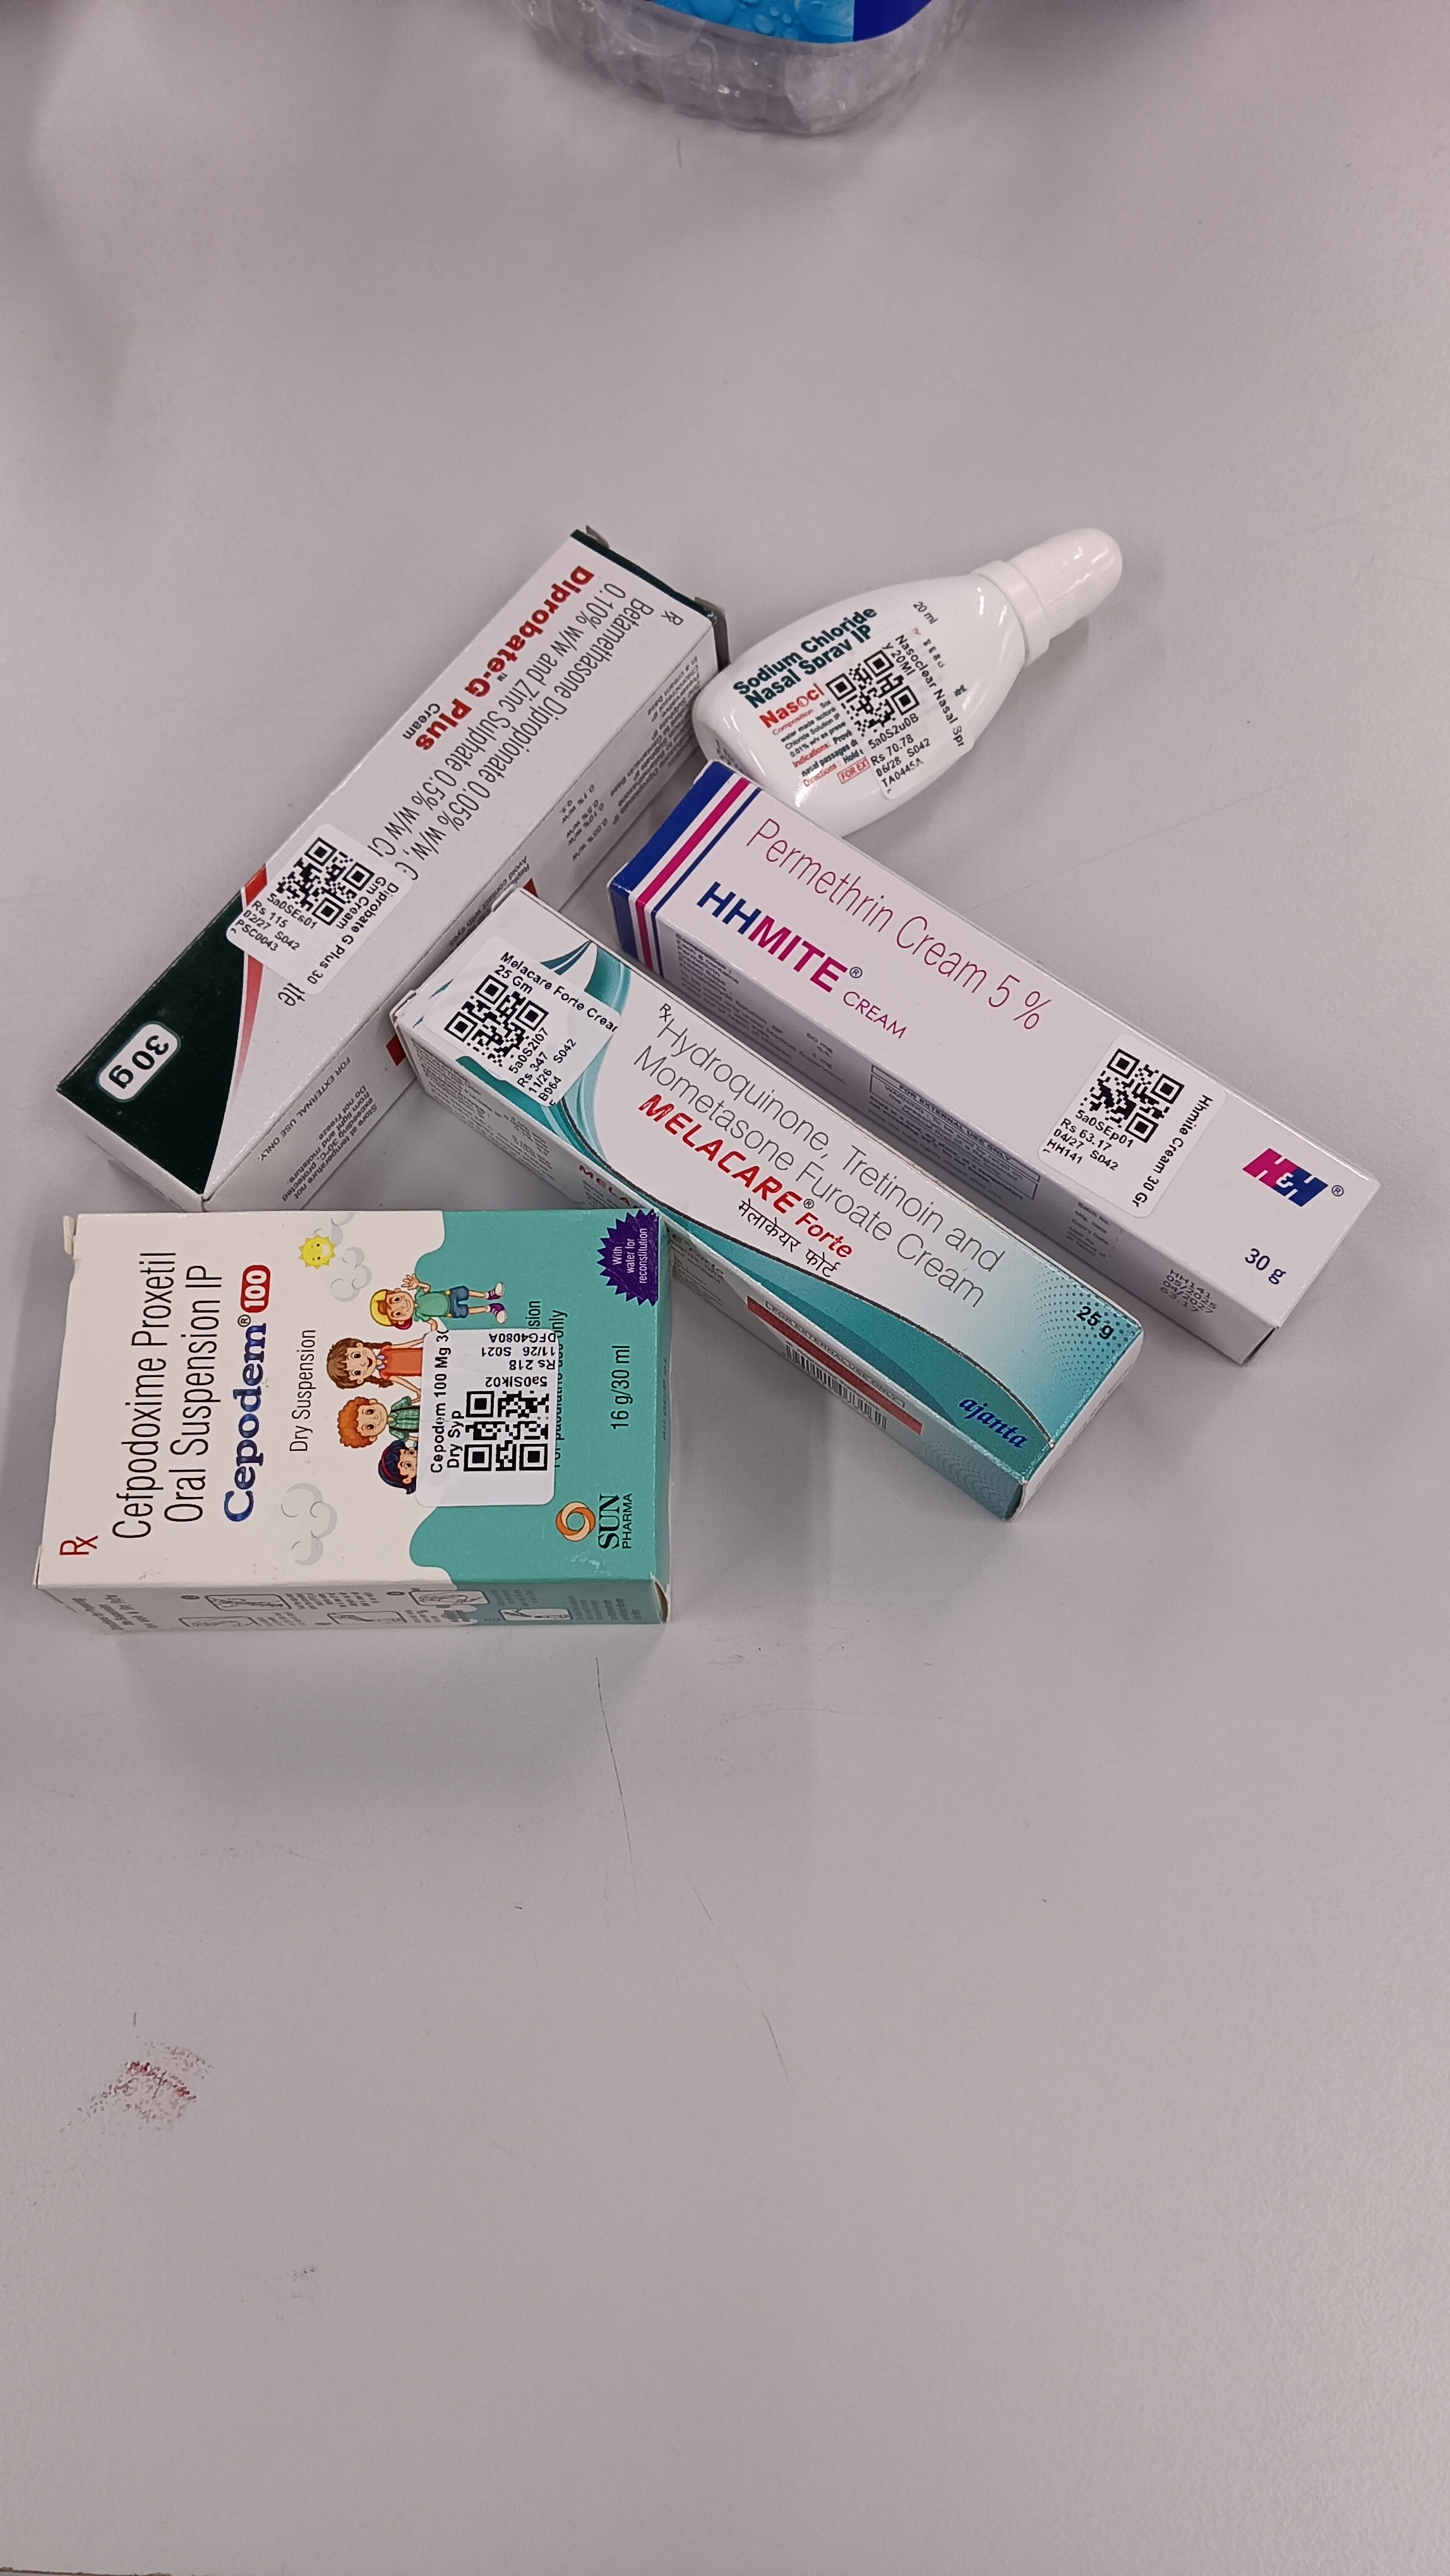QR: (1078, 1000, 1184, 1095), (443, 927, 549, 1021), (271, 791, 375, 881)
